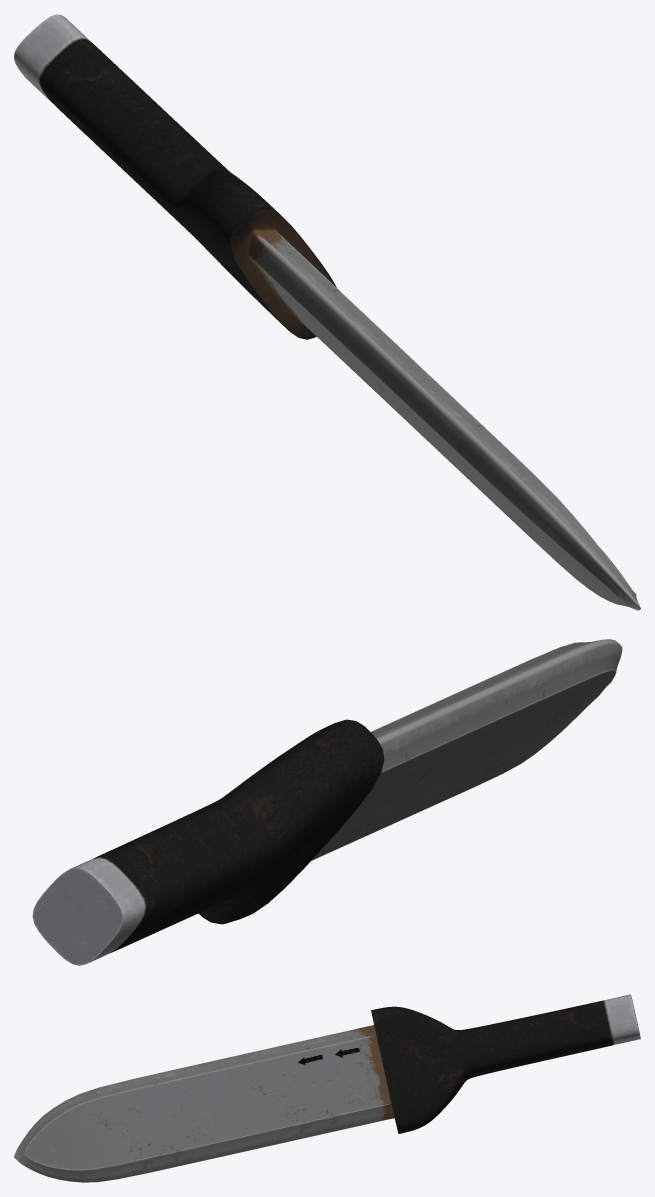
File: thorfinns_knife.glb
3 views of the same model, one above another, from view 1: azimuth 30°, elevation 25°; view 2: azimuth 150°, elevation 25°; view 3: azimuth 270°, elevation 25° (orthographic). The views are drawn at different scales.
Visible parts, largest first — view 1: Cube.002; view 2: Cube.002; view 3: Cube.002.
Boxes of the visible parts, x1,y1,x2,y2 form: Cube.002: (14,14,640,610); Cube.002: (32,639,622,965); Cube.002: (14,994,640,1182).
Size of the model in its own units: 0.043 by 0.0759 by 0.2717.
1 material, 1 textured.
